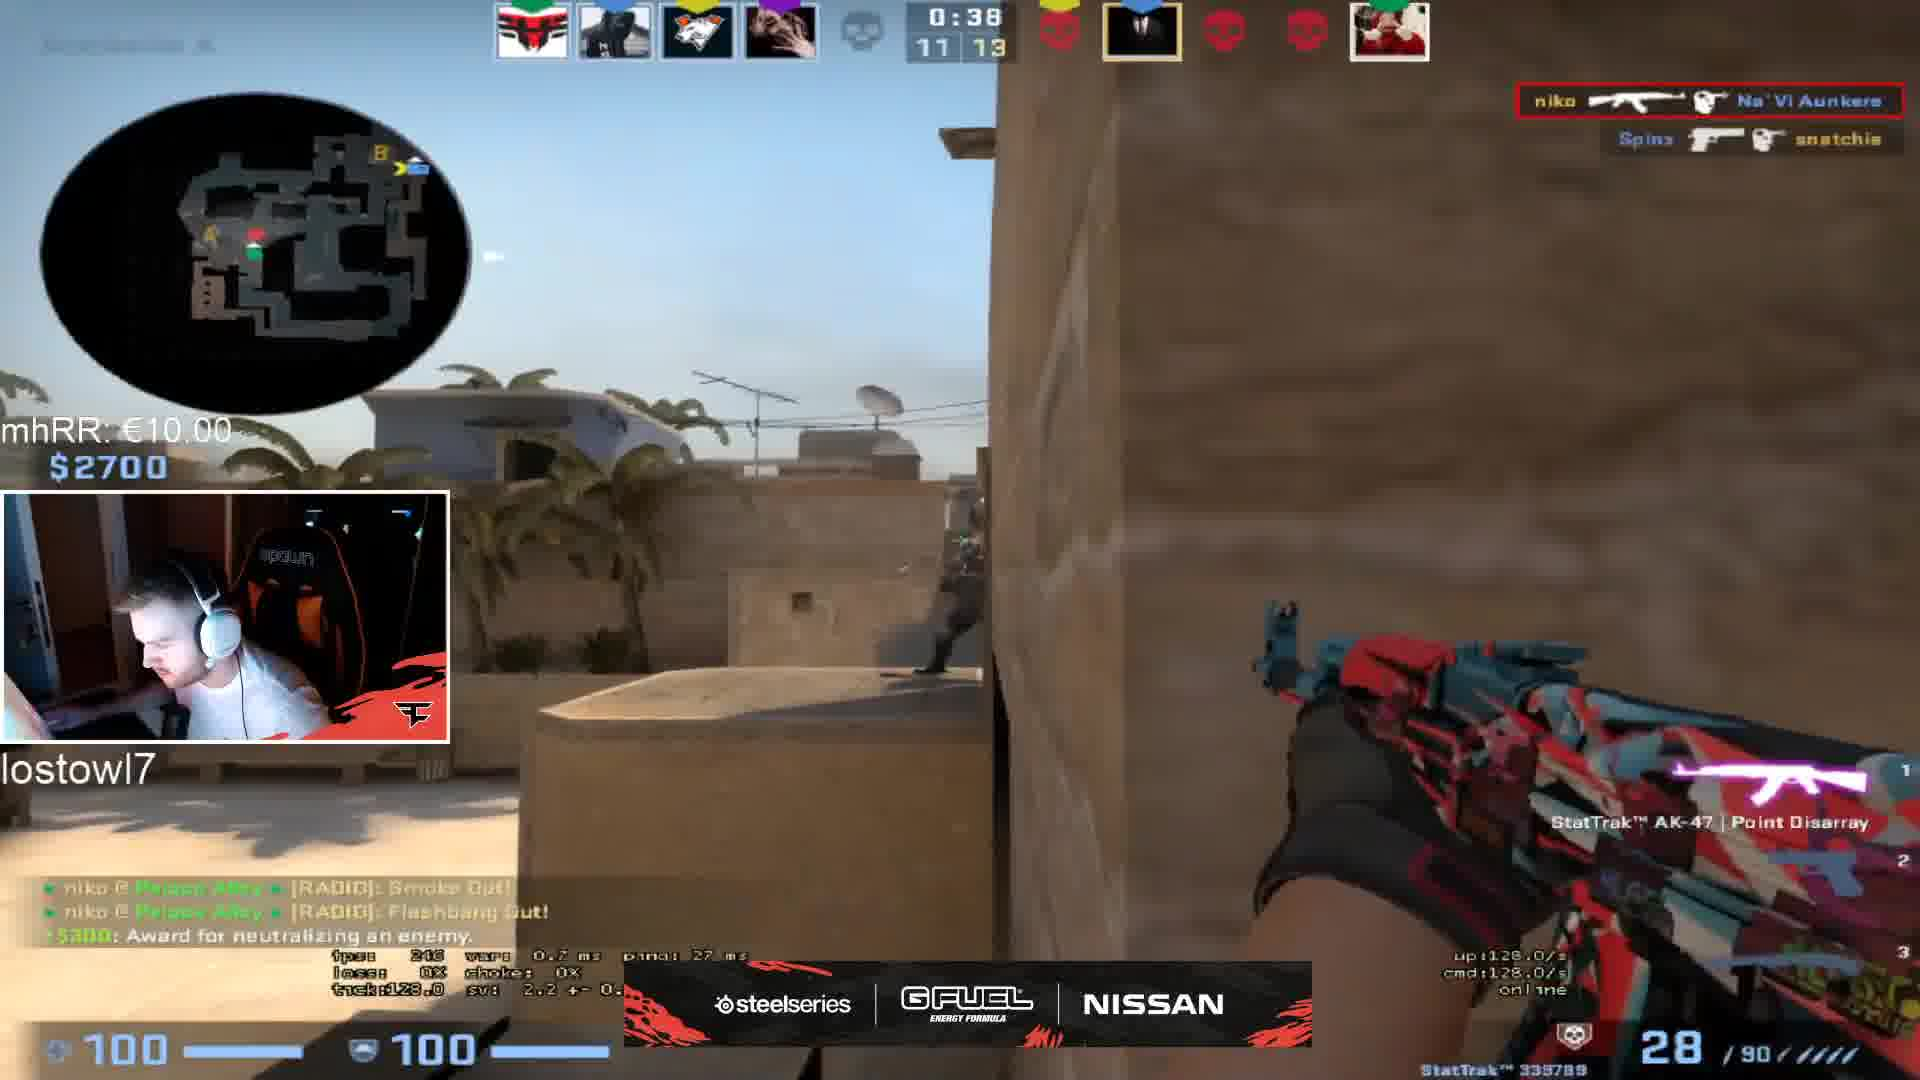enemy: (913, 529, 1000, 688)
